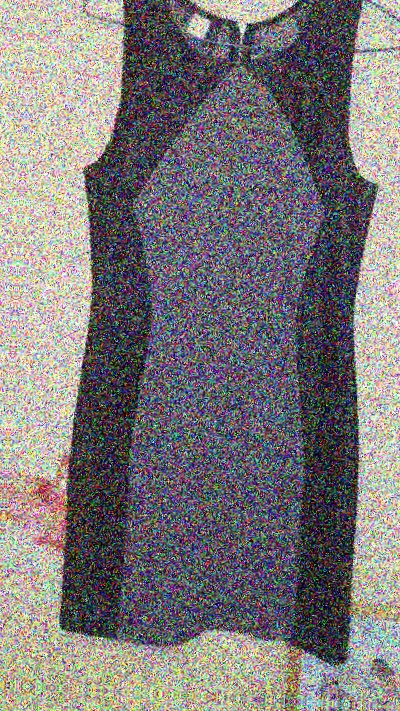Dress: (29, 0, 400, 673), (0, 0, 3, 649)
